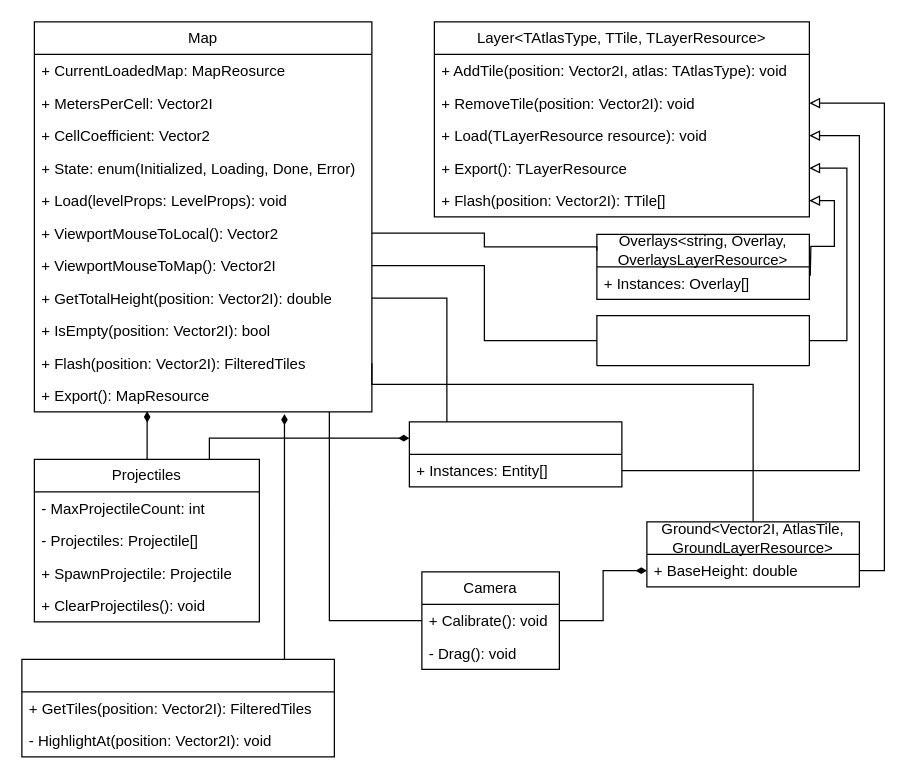
The diagram is 916 pixels wide and 783 high, and some of its shapes have lost their labels. Each missing label, with the box of its shape:
Decoration<Vector2I, AtlasTile, DecorationLayerResource>: (596, 314, 809, 366)
Entities<string, Entity, EntityLayerResource>: (408, 421, 622, 487)
Selector: (21, 658, 334, 757)
